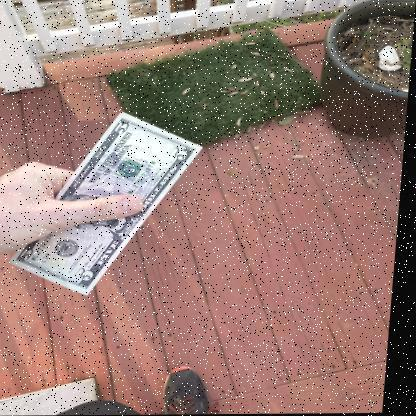dollar_front: (13, 112, 205, 295)
